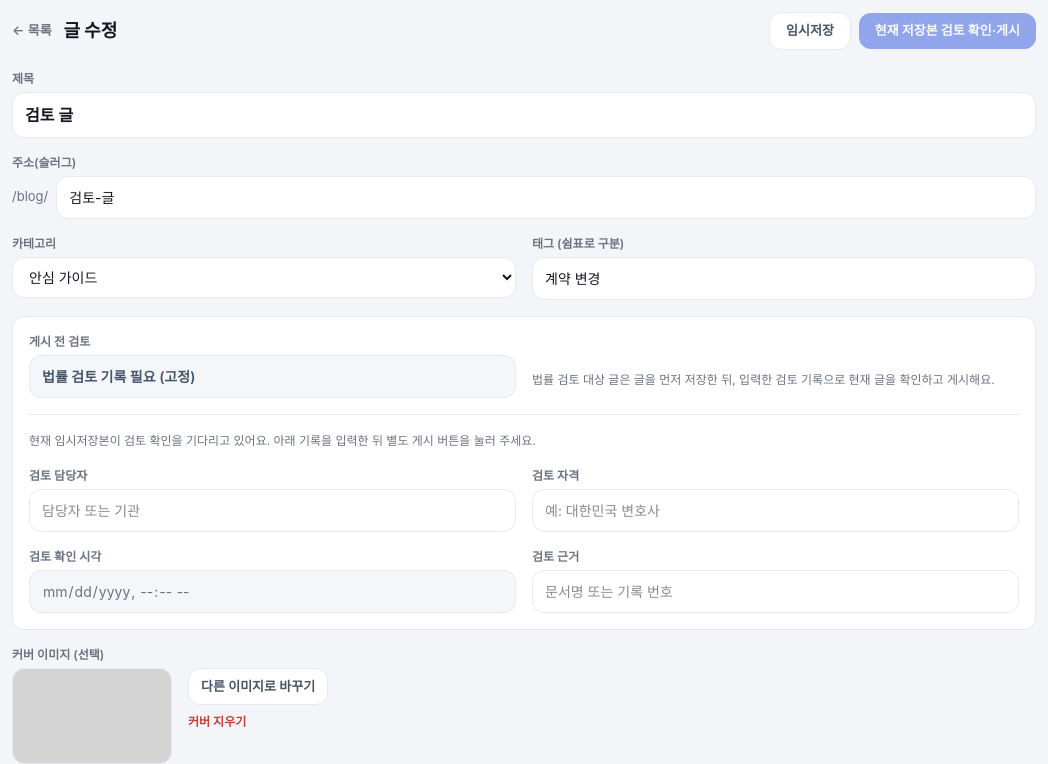
Test: 검토 응답과 상세 재확인이 모두 끊기면 결과 미확정과 새로고침 행동을 보여준다
In the field labelled "검토 담당자": (272, 510) [29,488,516,532], type "새 검토자"
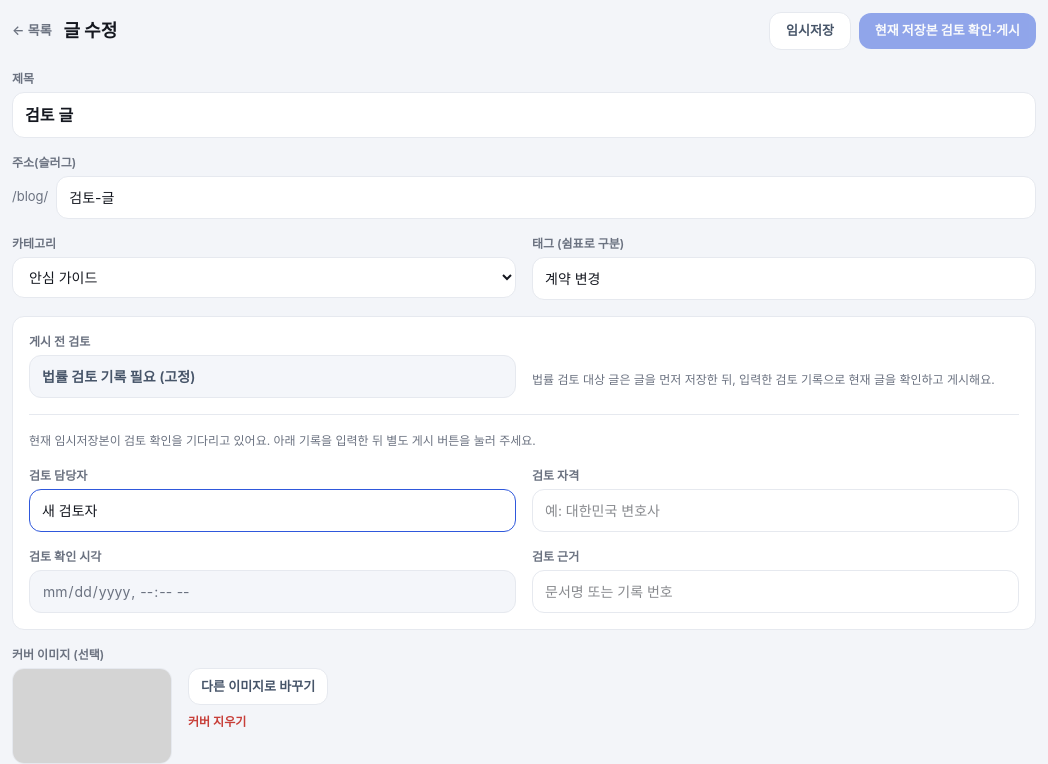
In the field labelled "검토 자격": (776, 510) [532,488,1019,532], type "대한민국 변호사"
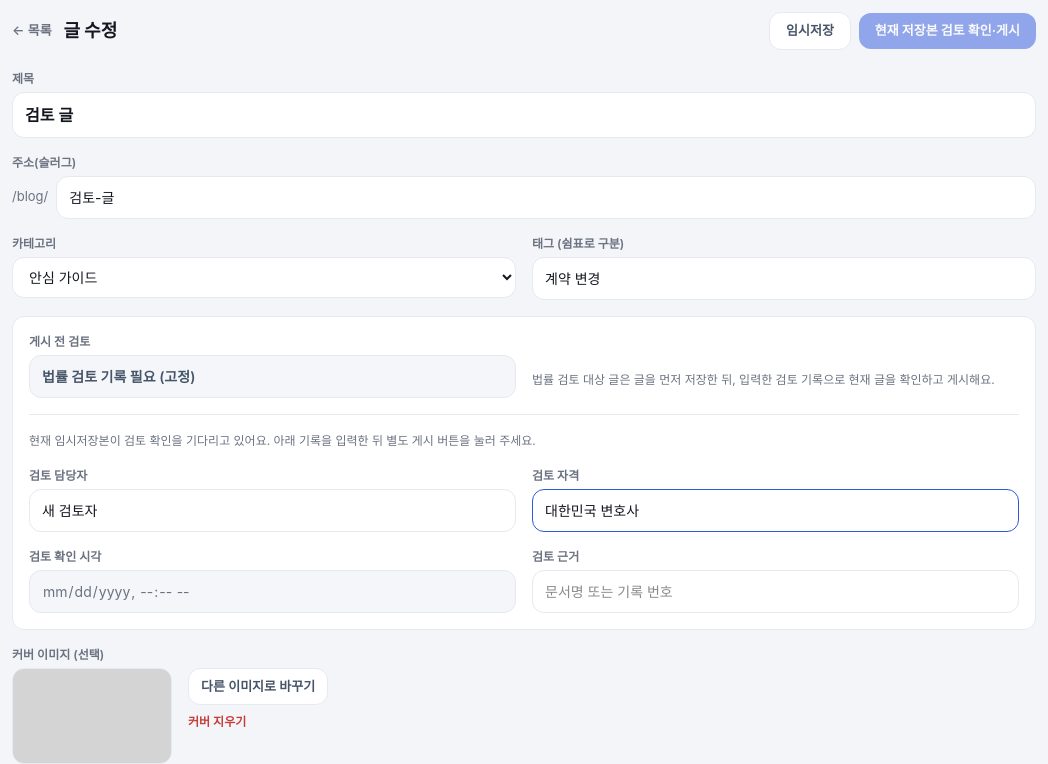
In the field labelled "검토 근거": (776, 591) [532,570,1019,612], type "새 기록"
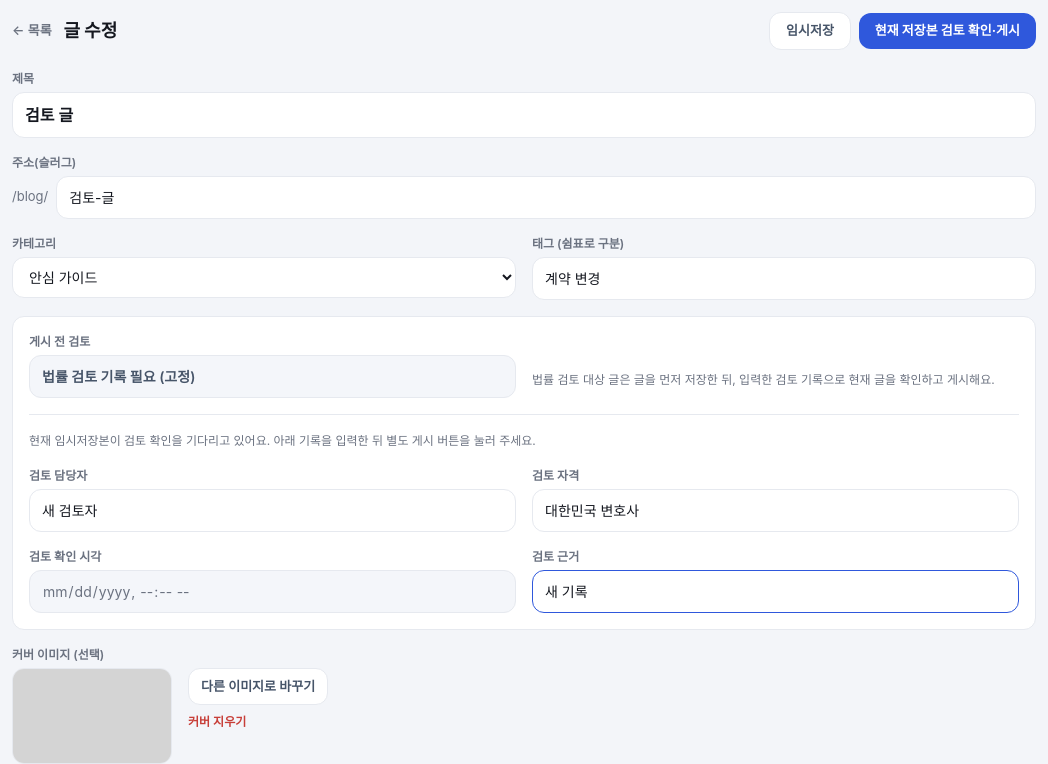
Click the button "현재 저장본 검토 확인·게시": click(947, 31) [859,13,1036,48]
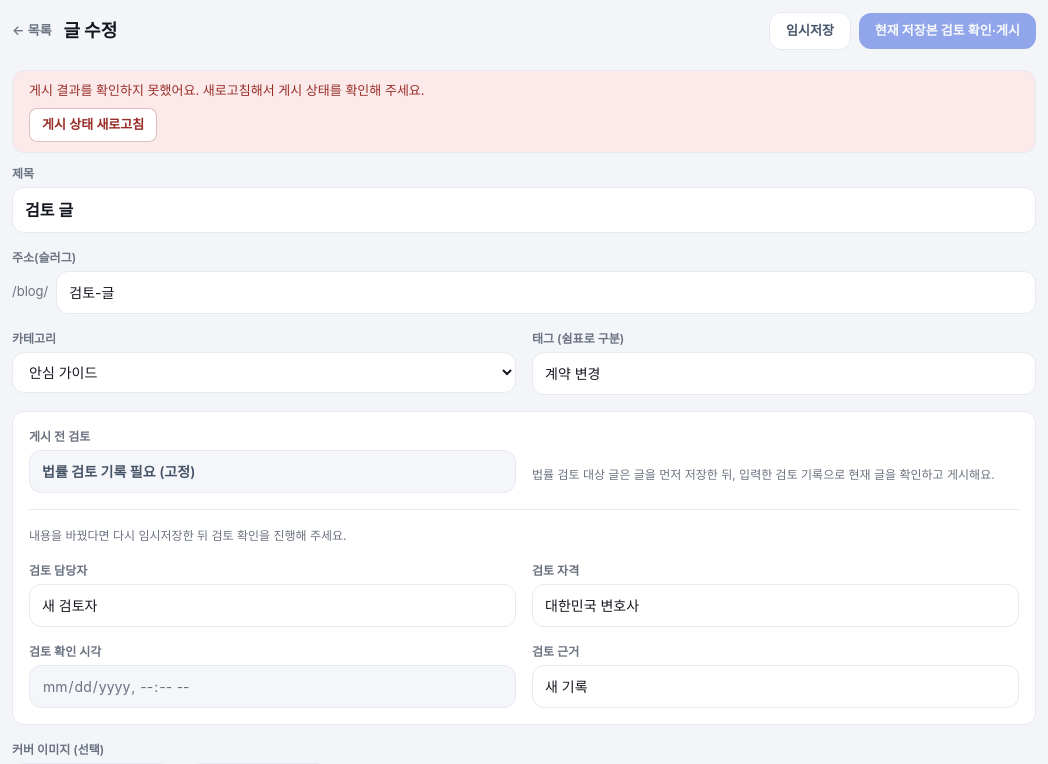
Expected: the text "게시 결과를 확인하지 못했어요. 새로고침해서 게시 상태를 확인해 주세요." is shown, [29,82,424,98]
Expected: the button "게시 상태 새로고침" is shown, [29,108,157,142]
